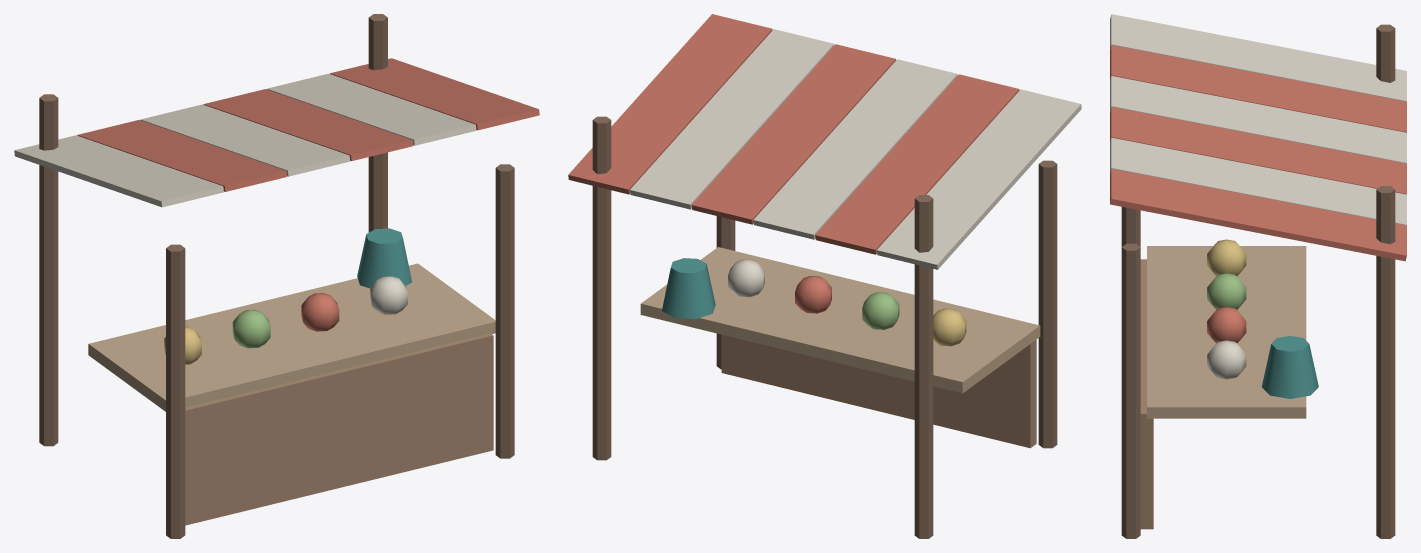
Rendered from market_stall.glb.
3 views of the same model, side by side, from view 1: azimuth 30°, elevation 25°; view 2: azimuth 150°, elevation 25°; view 3: azimuth 270°, elevation 25° (orthographic). The views are drawn at different scales.
Visible parts, largest first — view 1: Stall; view 2: Stall; view 3: Stall.
Part boxes in pixels (x1,y1,x2,y2): Stall: (14, 14, 539, 538); Stall: (568, 14, 1081, 538); Stall: (1110, 14, 1406, 538).
Size of what is drawn, in the model's own units: 2.75 by 2.42 by 1.87.
